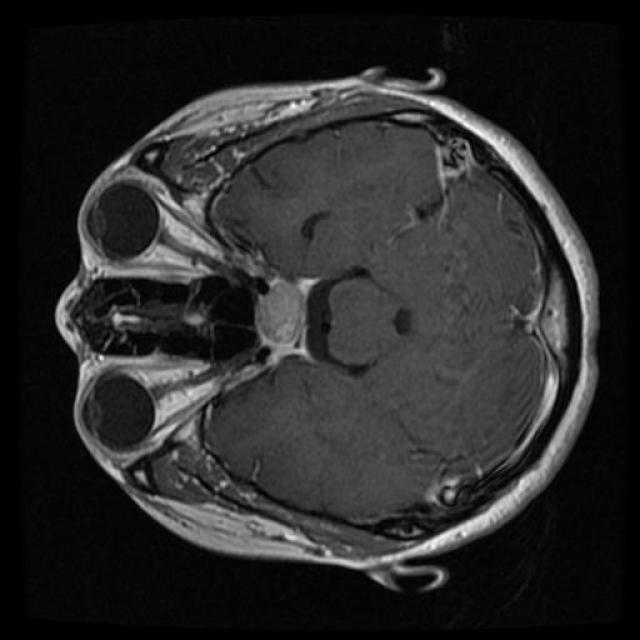Pituitary: (250, 265, 323, 365)
